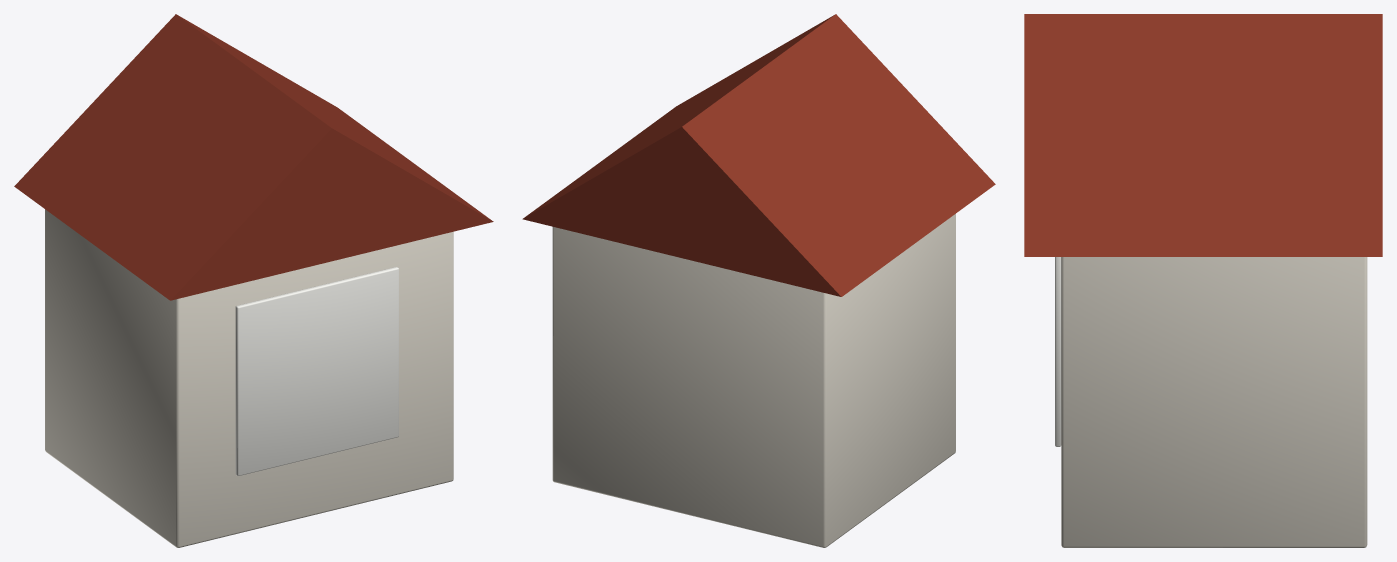
The model's file is Dormer_Window_Small.glb.
The picture shows the model from 3 angles, left to right: view 1: azimuth 30°, elevation 25°; view 2: azimuth 150°, elevation 25°; view 3: azimuth 270°, elevation 25°; orthographic projection. The views are drawn at different scales.
Parts seen in each view (by area): view 1: Dormer_Window_Small; view 2: Dormer_Window_Small; view 3: Dormer_Window_Small.
Part boxes in pixels (x1,y1,x2,y2): Dormer_Window_Small: [14, 14, 493, 547]; Dormer_Window_Small: [522, 14, 995, 547]; Dormer_Window_Small: [1024, 14, 1382, 547].
Size of the model in its own units: 1.4 by 1.65 by 1.17.
